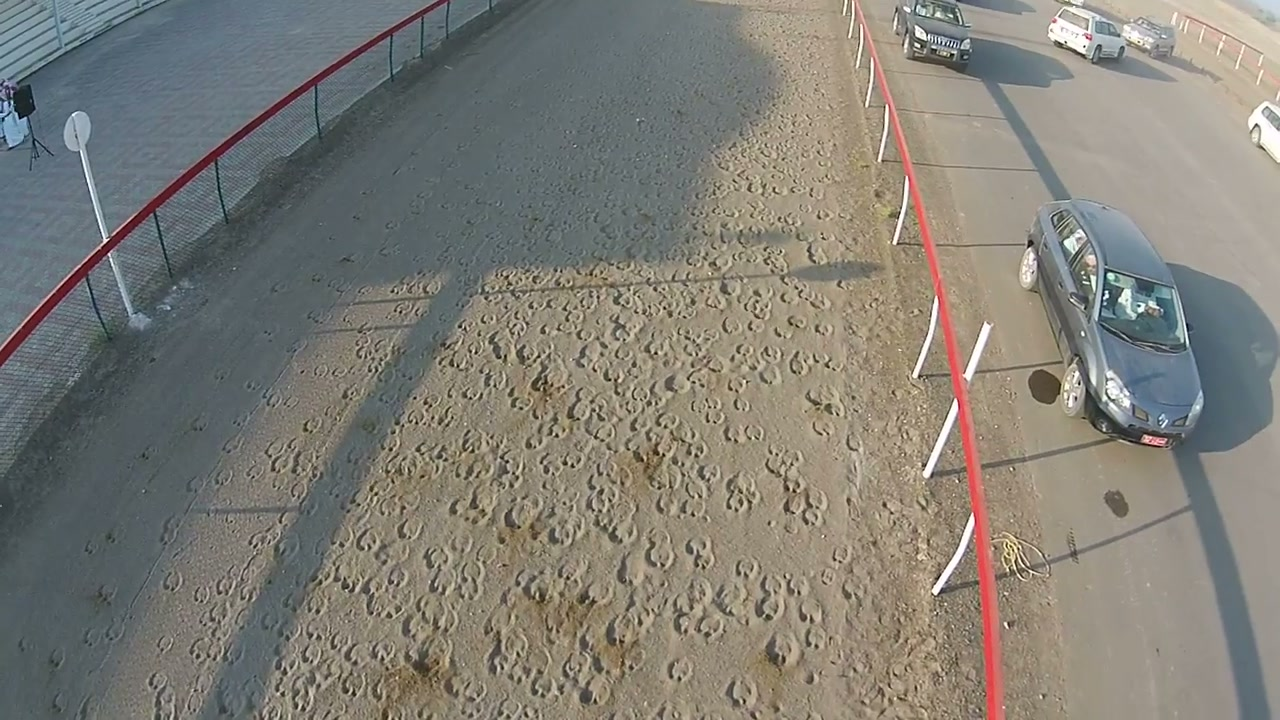animal_footprint: (13, 3, 937, 719), (670, 576, 712, 629), (714, 578, 750, 621), (726, 473, 760, 512), (766, 632, 801, 668), (755, 582, 787, 621), (726, 677, 758, 708), (685, 537, 715, 570), (668, 657, 694, 682)
